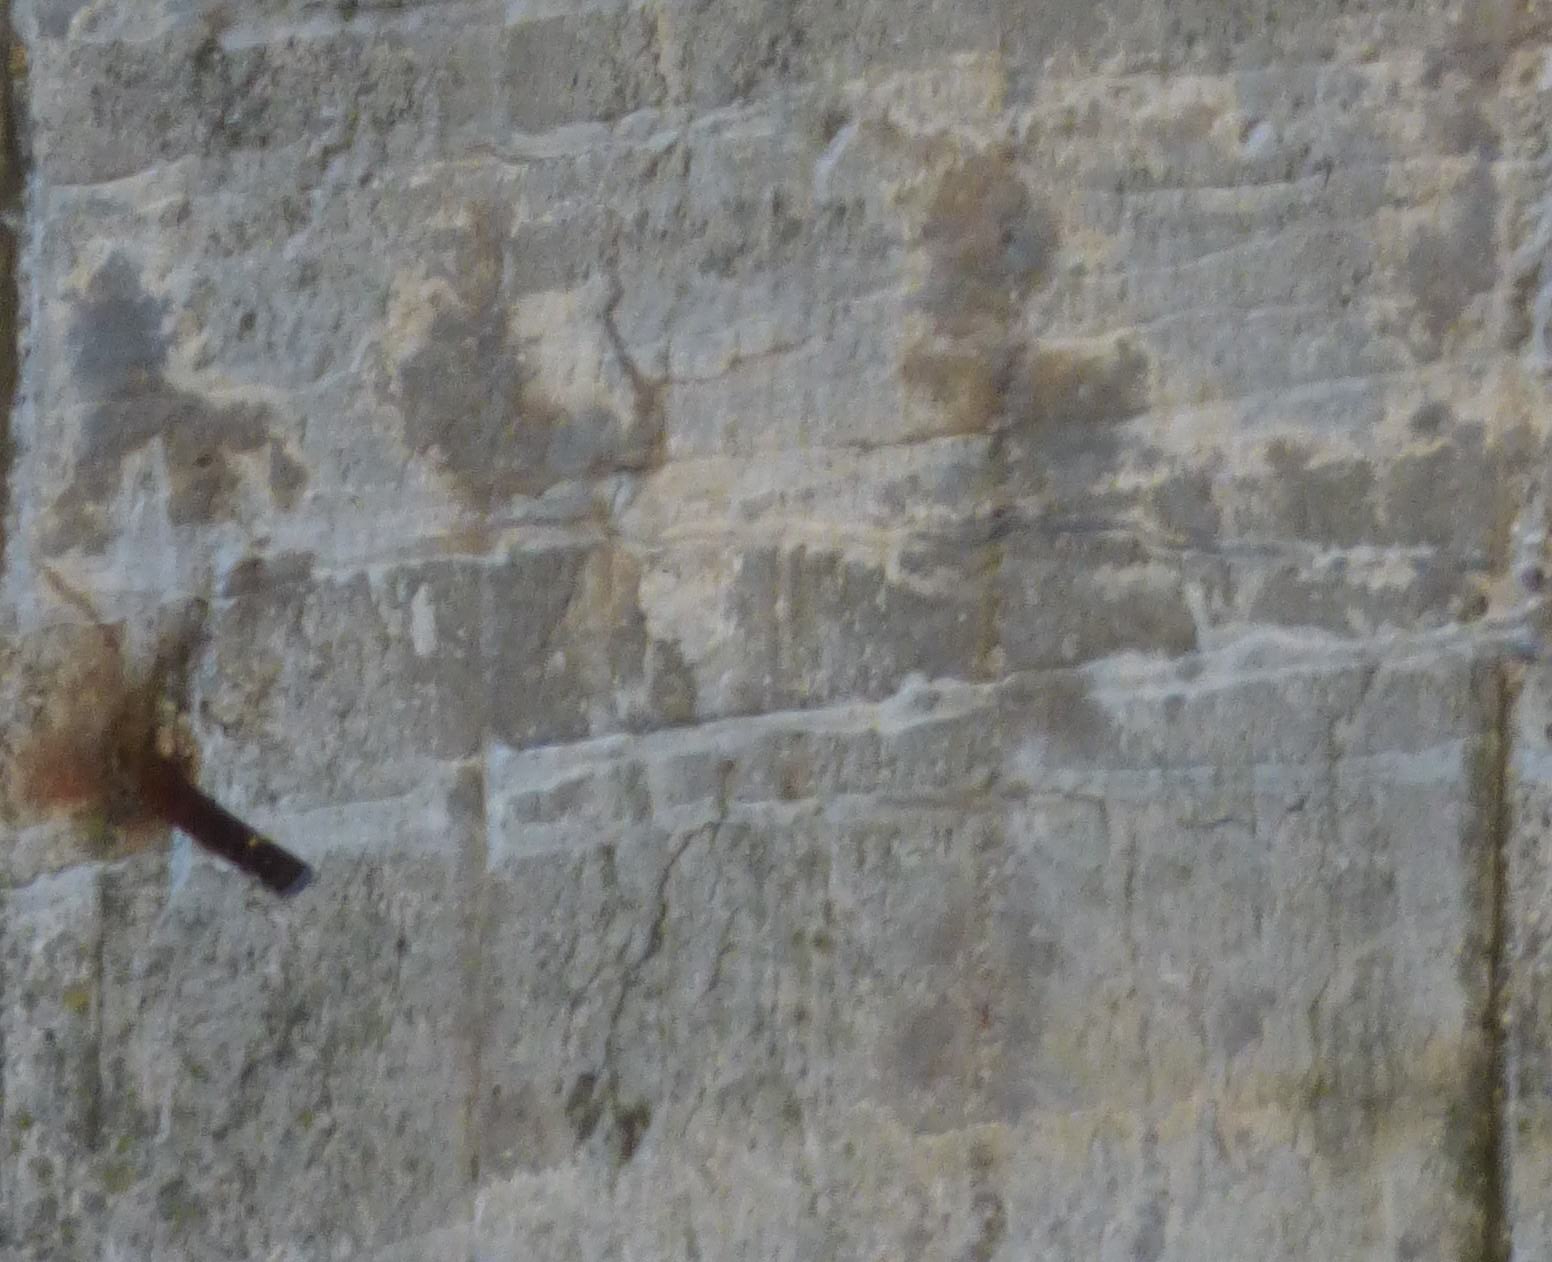Exposed reinforcement: (140, 755, 314, 900)
